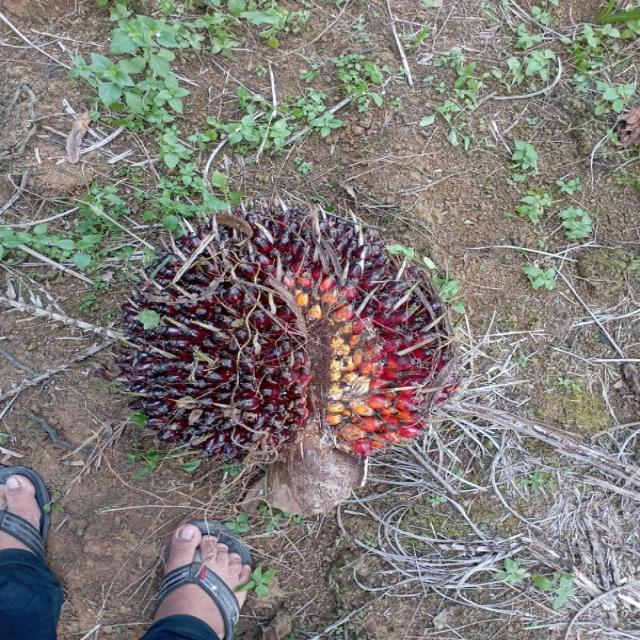fraksi 00: (119, 200, 449, 491)
